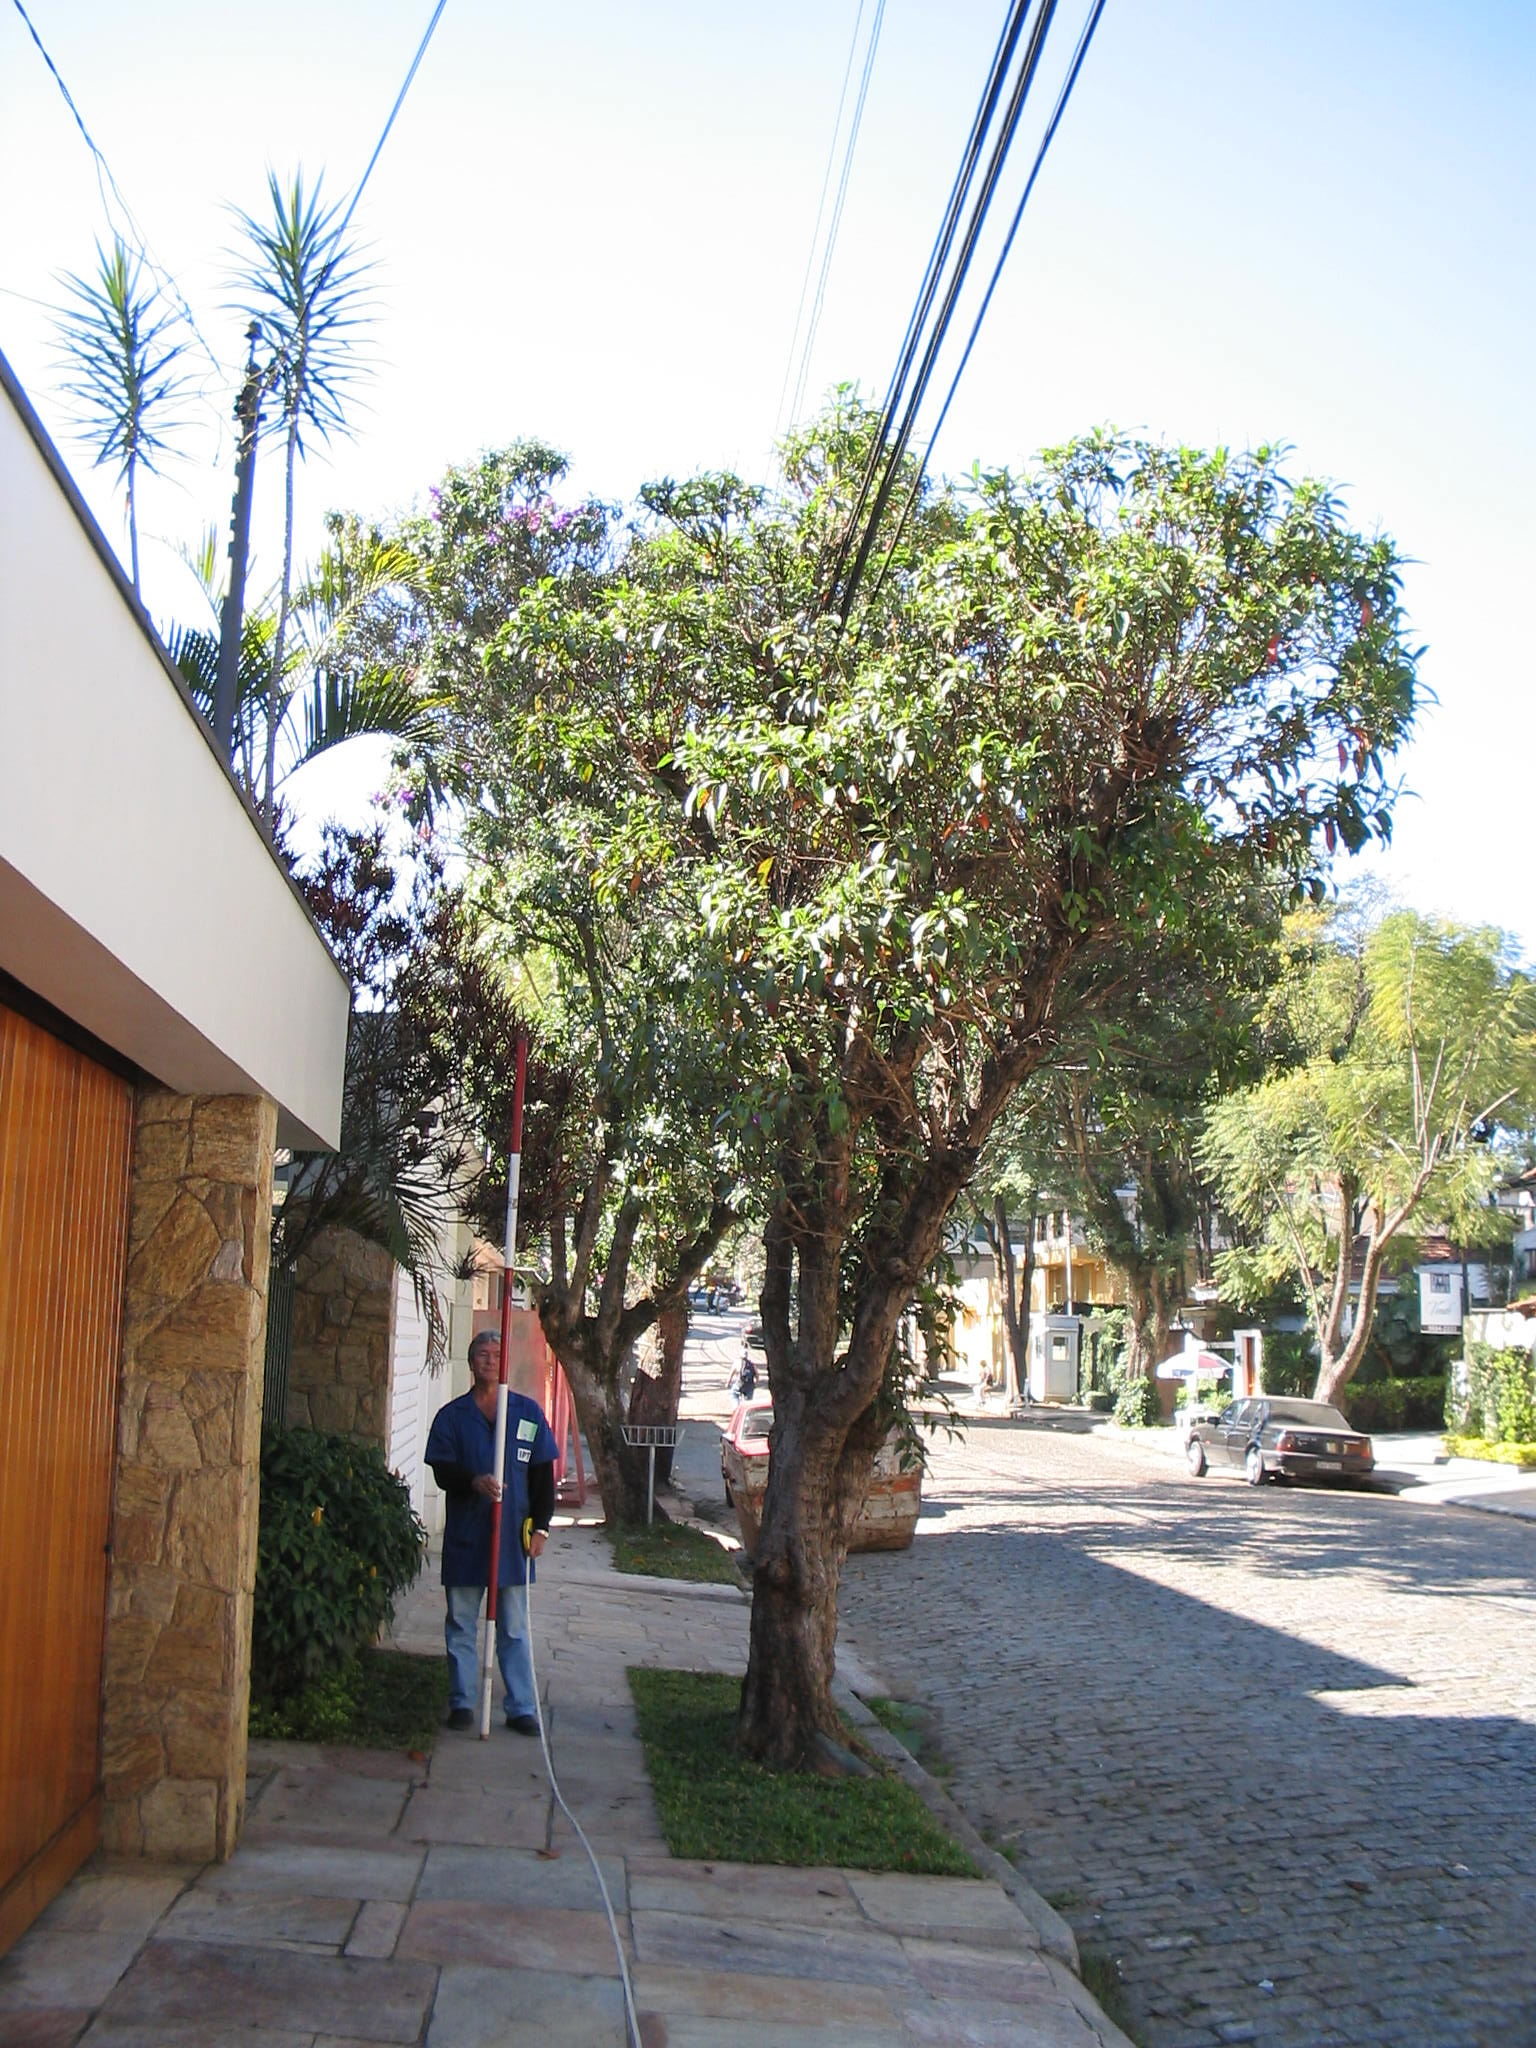crown: (431, 405, 1436, 1297)
stem: (703, 1376, 899, 1779), (557, 1376, 703, 1517)
stick: (470, 1042, 544, 1750)
tree: (419, 400, 1446, 1771)
